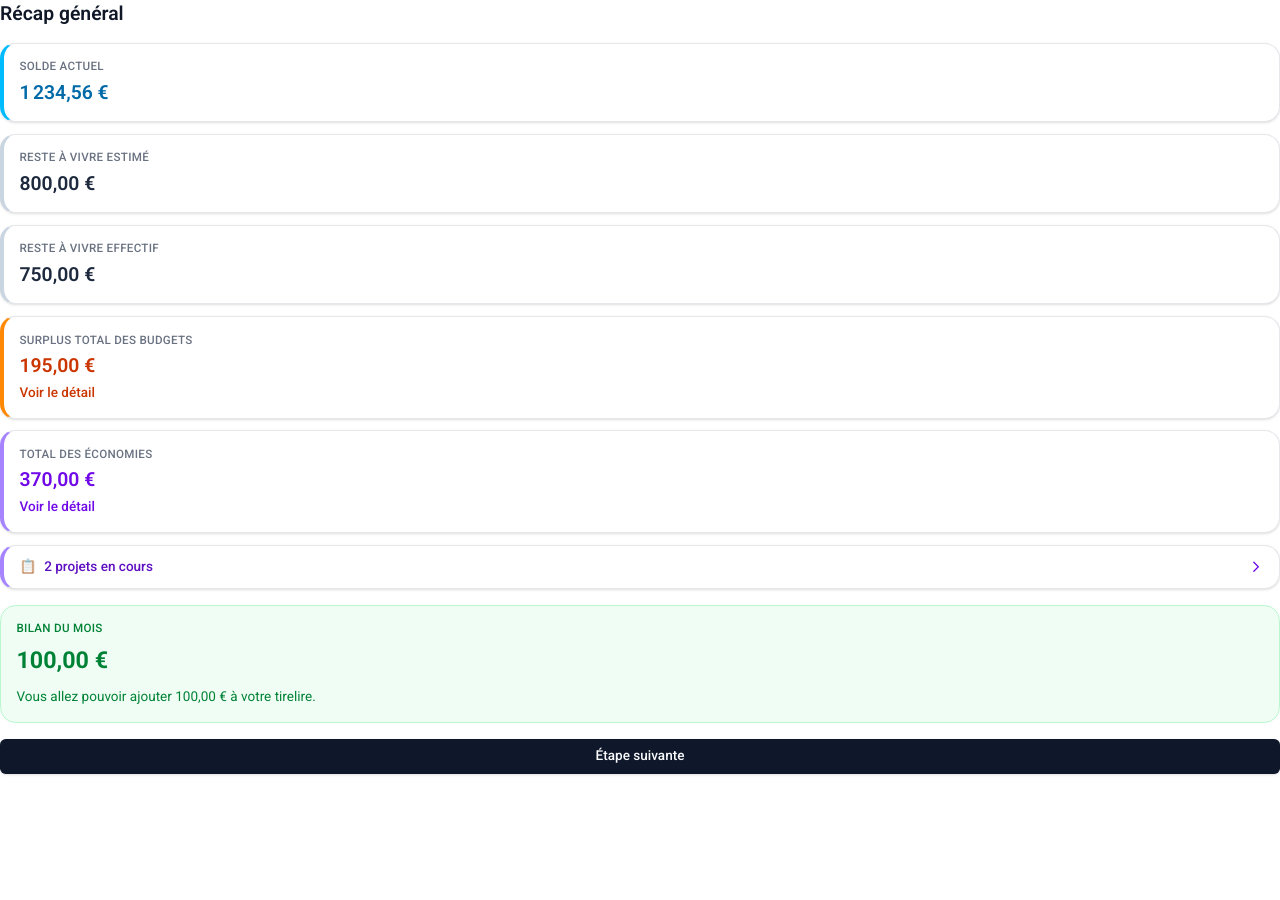
Test: SummaryStep › renders "N projets en cours" (plural) and opens the drawer on click
Click the button "📋 2 projets en cours": (99, 566) [0,545,1279,589]
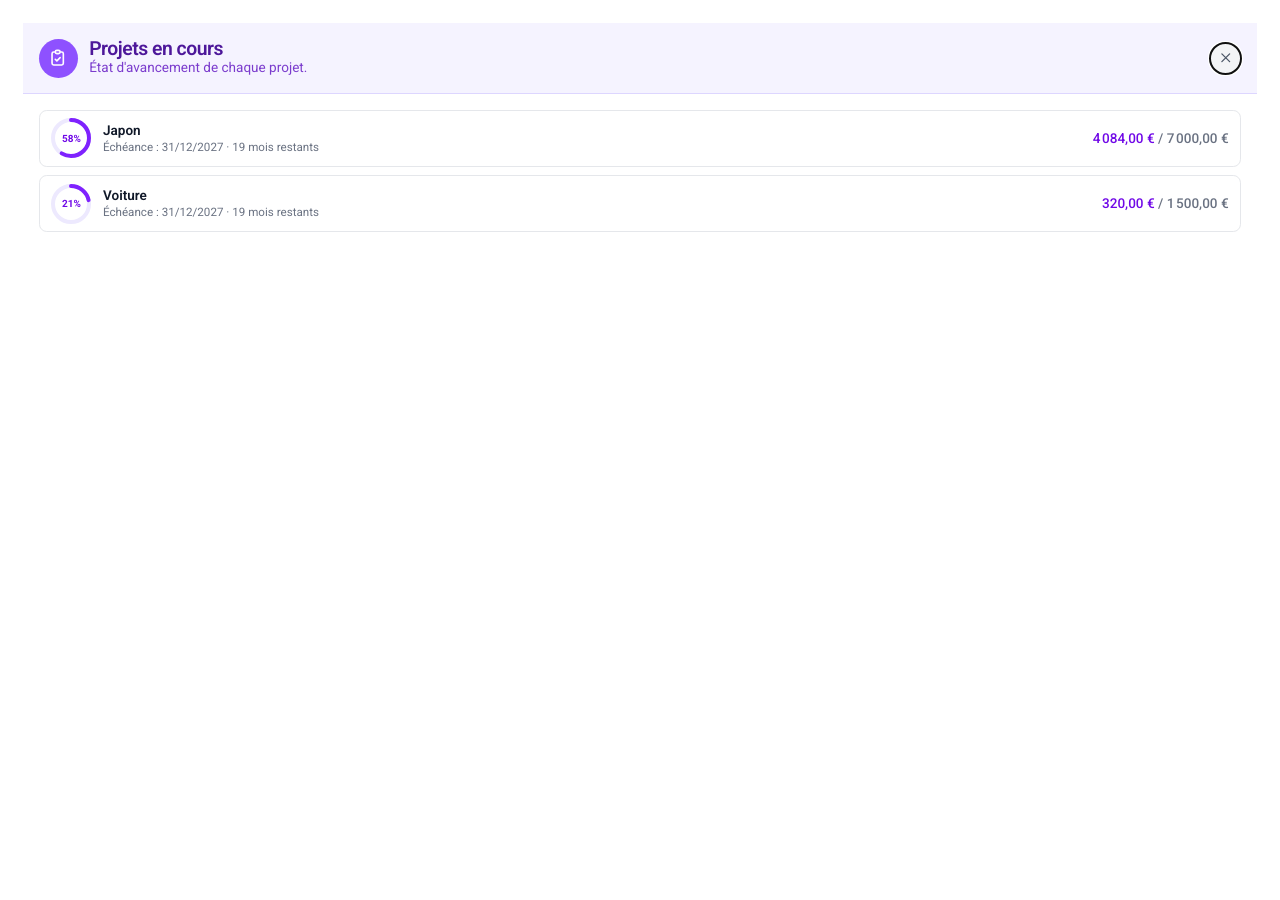
Now the heading "Projets en cours" is shown, box [89,37,223,60]
Now the text "Japon" is shown, box [103,122,141,138]
Now the text "Voiture" is shown, box [103,187,147,203]
